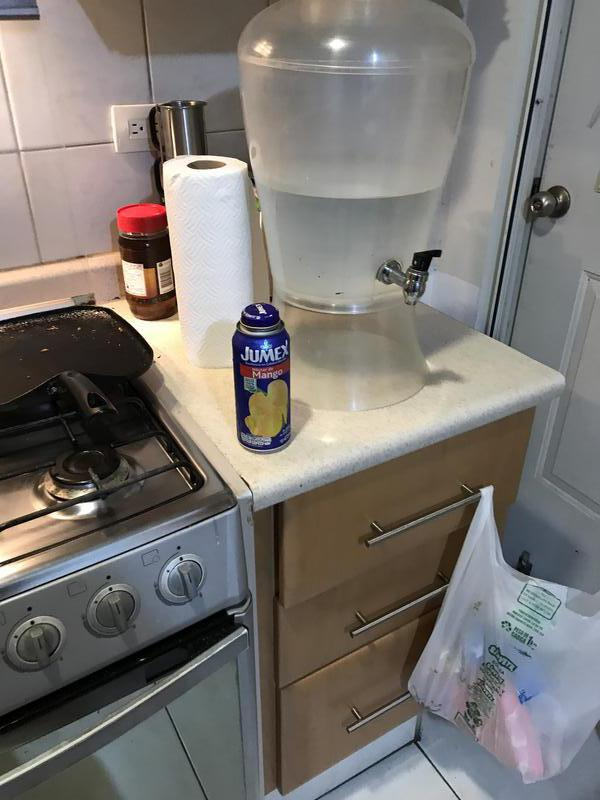jugo_jumex: (232, 304, 294, 452)
